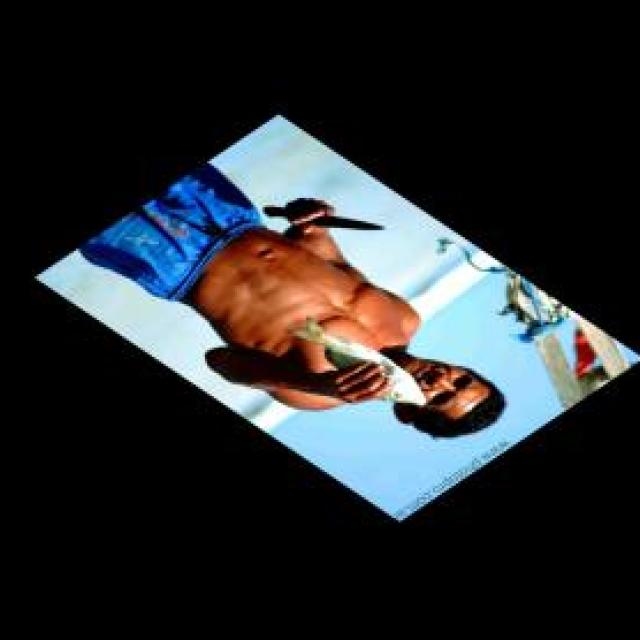knife: (258, 196, 390, 239)
